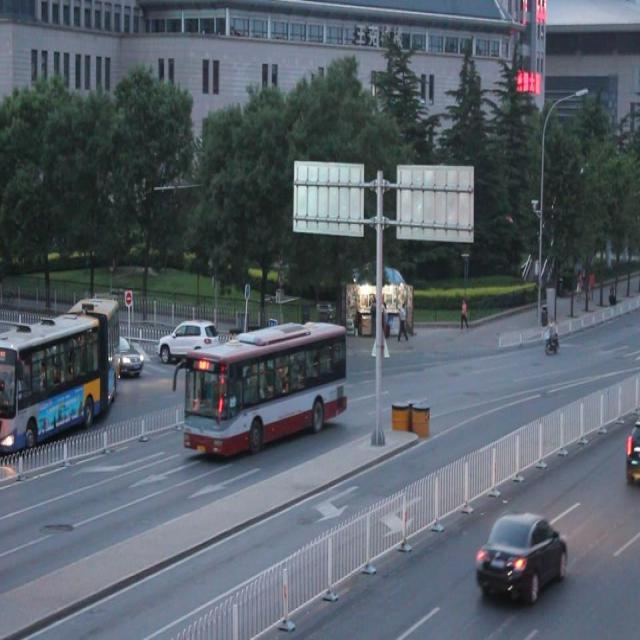car: (473, 507, 566, 606), (159, 315, 219, 368), (116, 324, 147, 376)
van: (179, 322, 348, 460), (0, 296, 119, 452)
